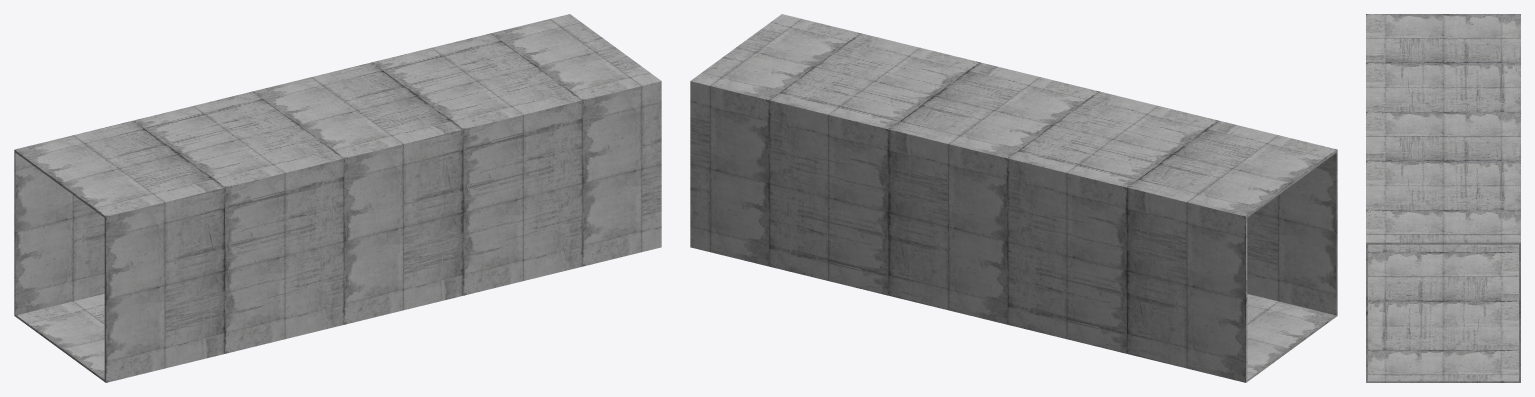
3 views of the same model, side by side, from view 1: azimuth 30°, elevation 25°; view 2: azimuth 150°, elevation 25°; view 3: azimuth 270°, elevation 25° (orthographic). The views are drawn at different scales.
Visible parts, largest first — view 1: SM_Box_3_LOD0; view 2: SM_Box_3_LOD0; view 3: SM_Box_3_LOD0.
Boxes of the visible parts, box(x1,y1,x2,y2) form: SM_Box_3_LOD0: box(14, 14, 661, 382); SM_Box_3_LOD0: box(690, 14, 1337, 382); SM_Box_3_LOD0: box(1366, 14, 1520, 382).
Size of the model in its own units: 2799 by 800 by 800.
Materials: 1 (1 with a texture image).
